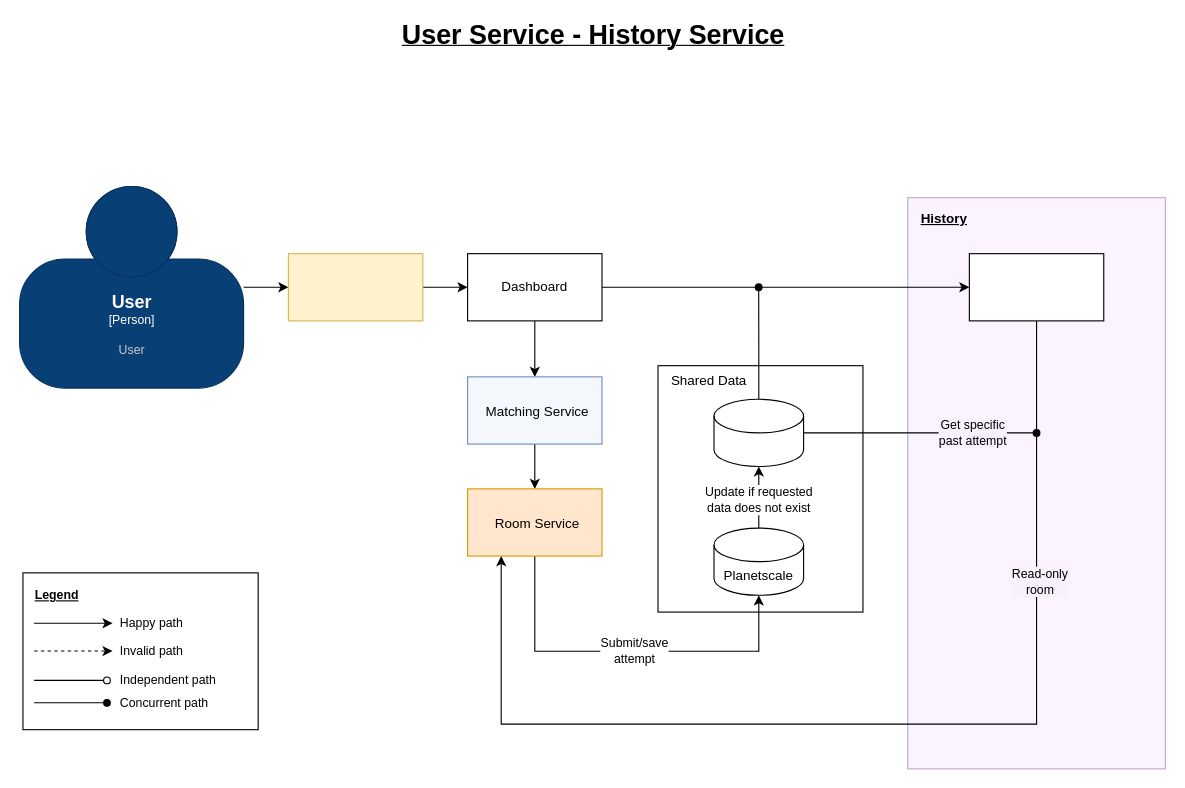
The diagram is 1185 pixels wide and 788 high, and some of its shapes have lost their labels. Here are the shapes that lost their labels. From the top down, the centre of each, then its label:
At point 355,287: "Authentication".
At point 1036,287: "View list of completed questions".
At point 758,432: "Redis".
